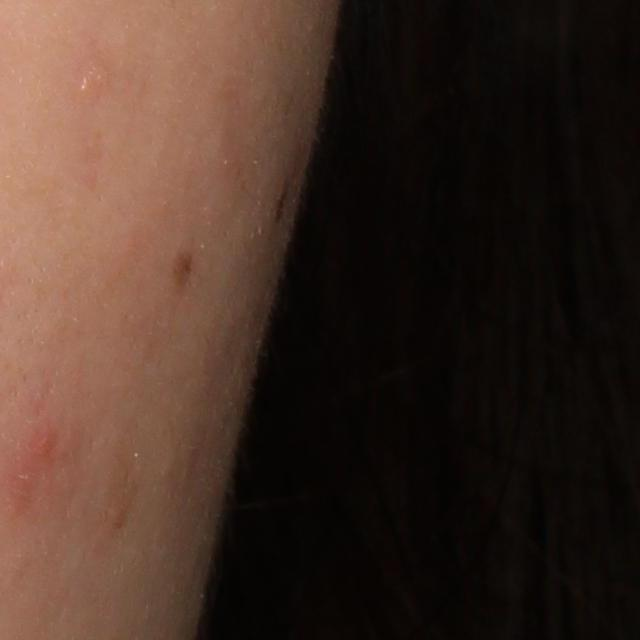nevus: (174, 250, 191, 292)
papule: (17, 427, 56, 465)
